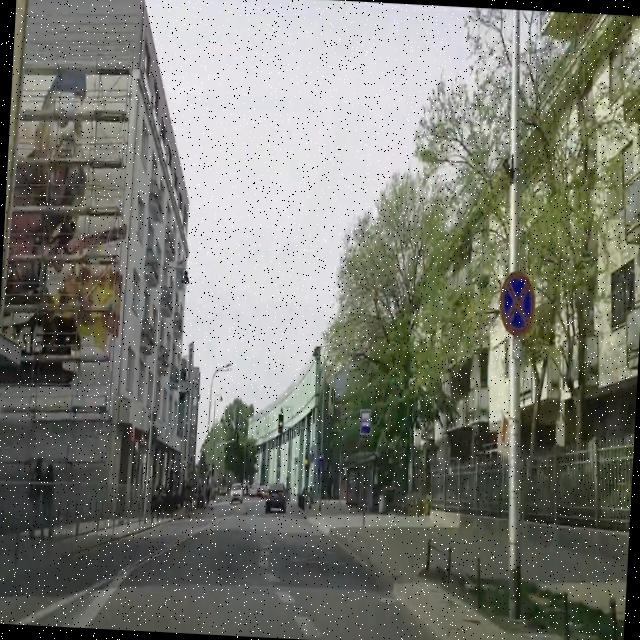Zakaz zatrzymywania sie: (498, 270, 536, 334)
